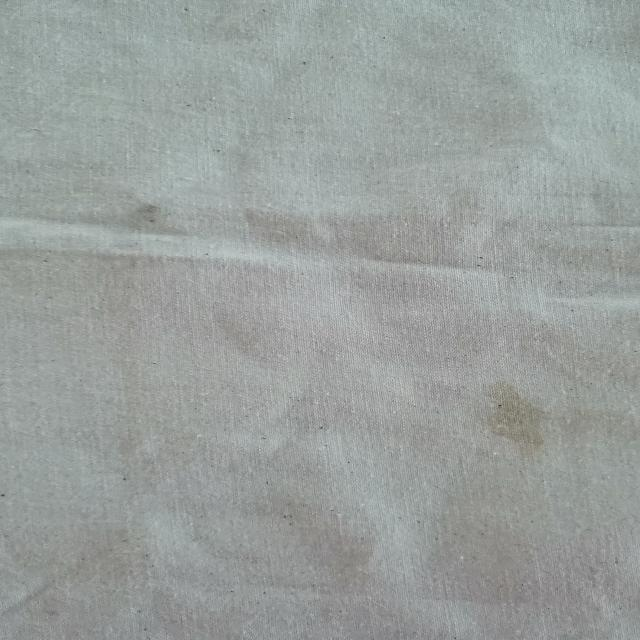taaaches: (443, 382, 562, 467), (86, 188, 190, 240)
